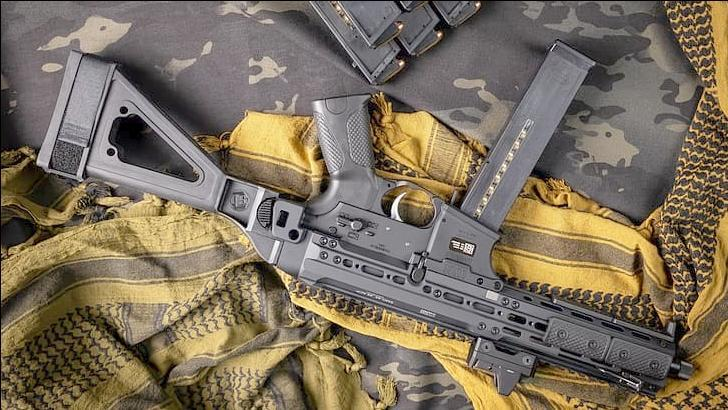gun: (27, 13, 704, 410)
